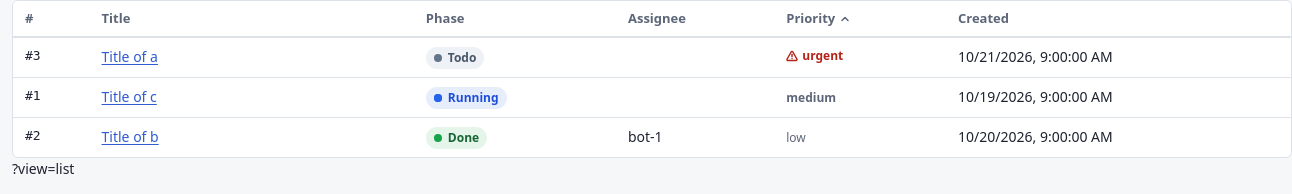
Test: TaskTable › sorts by a header, ascending then descending, and keeps it in the URL
Click the button "Title" at (116, 19), box [102,9,130,28]
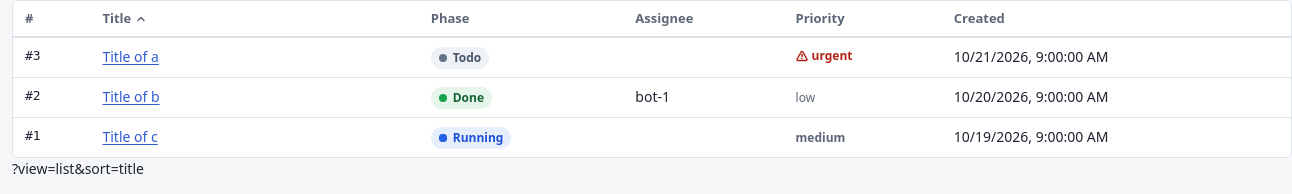
Now the text with test id "query" reads "?view=list&sort=title", box [12,158,144,178]
Click the button "Title" at (125, 19), box [102,9,147,28]
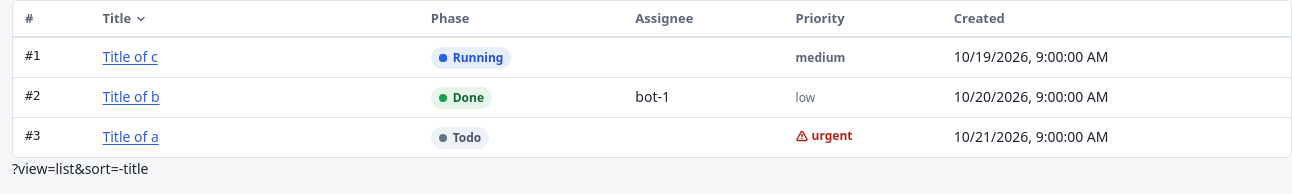
Now the text with test id "query" reads "?view=list&sort=-title", box [12,158,148,178]
